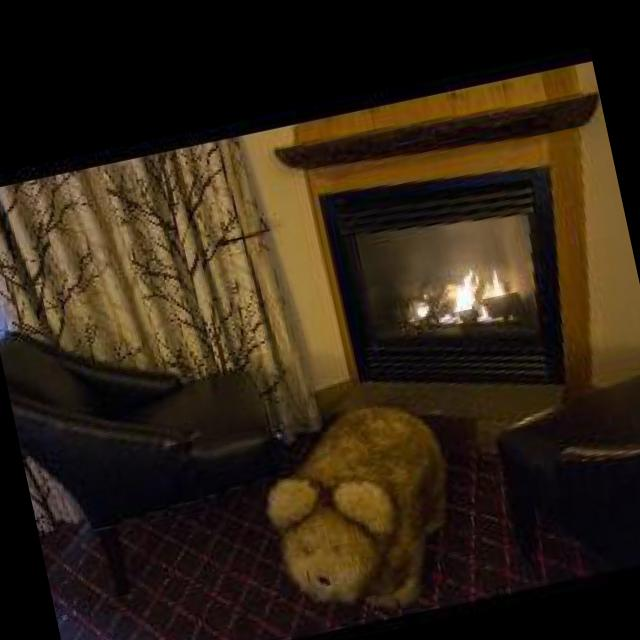fire: (396, 254, 522, 341)
